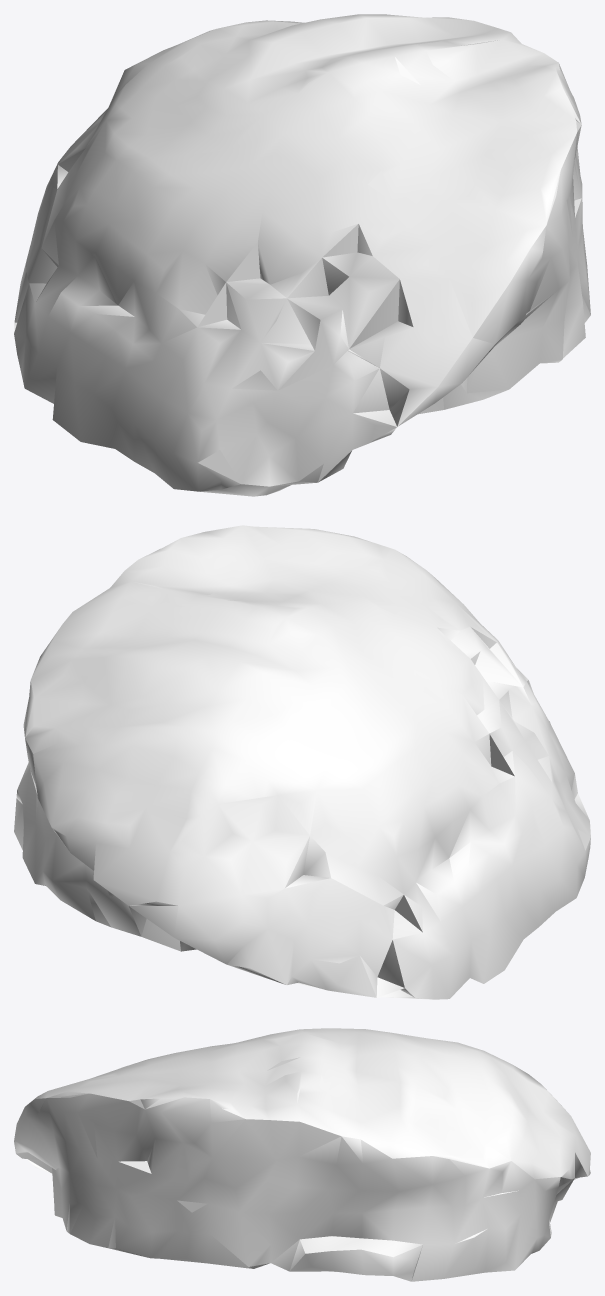
Rendered from wear_beret.glb.
The picture shows the model from 3 angles, top to bottom: view 1: azimuth 30°, elevation 25°; view 2: azimuth 150°, elevation 25°; view 3: azimuth 270°, elevation 25°; orthographic projection. The views are drawn at different scales.
Visible parts, largest first — view 1: mesh; view 2: mesh; view 3: mesh.
Boxes of the visible parts, x1,y1,x2,y2 form: mesh: (14,14,590,496); mesh: (14,525,590,999); mesh: (14,1028,590,1281).
Bounding box in the file's own units: 0.1214 × 0.08 × 0.162.
1 material, 1 textured.
